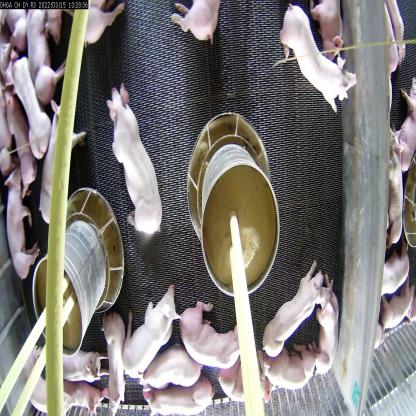Pig: (100, 70, 160, 254), (275, 18, 356, 107), (258, 258, 326, 354), (38, 100, 82, 240), (38, 356, 110, 416), (116, 302, 172, 376), (25, 8, 64, 110), (7, 160, 36, 287), (99, 309, 135, 399), (58, 334, 110, 396), (179, 304, 224, 373), (262, 333, 312, 390), (143, 379, 220, 416), (314, 302, 346, 374), (146, 342, 188, 388), (14, 68, 40, 138)
